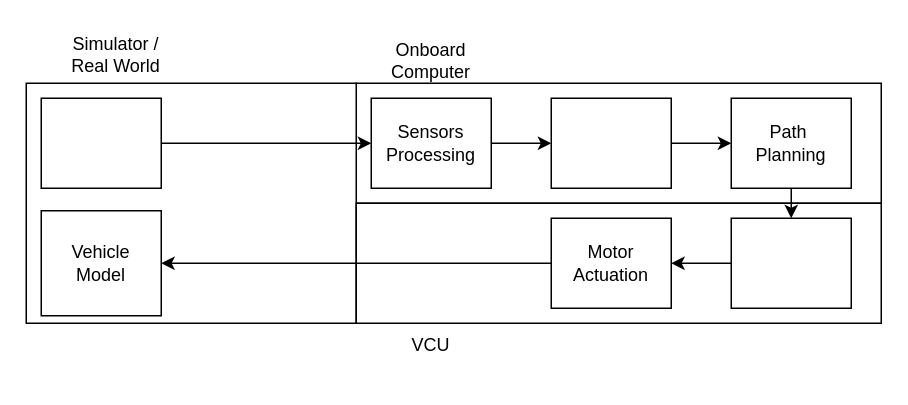
Image size: 908x405. Some labels were removed from this diagram. The shapes that lost their labels are listed below. From the top down, each one's centre as x and y in pixels, then its label:
At [100,142]: "Sensors Data".
At [610,142]: "SLAM".
At [790,262]: "Path Tracking".
